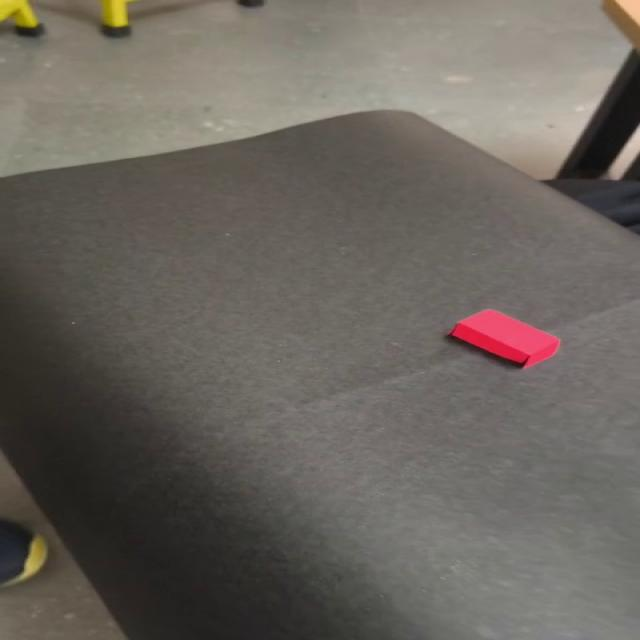red block: (447, 308, 561, 368)
